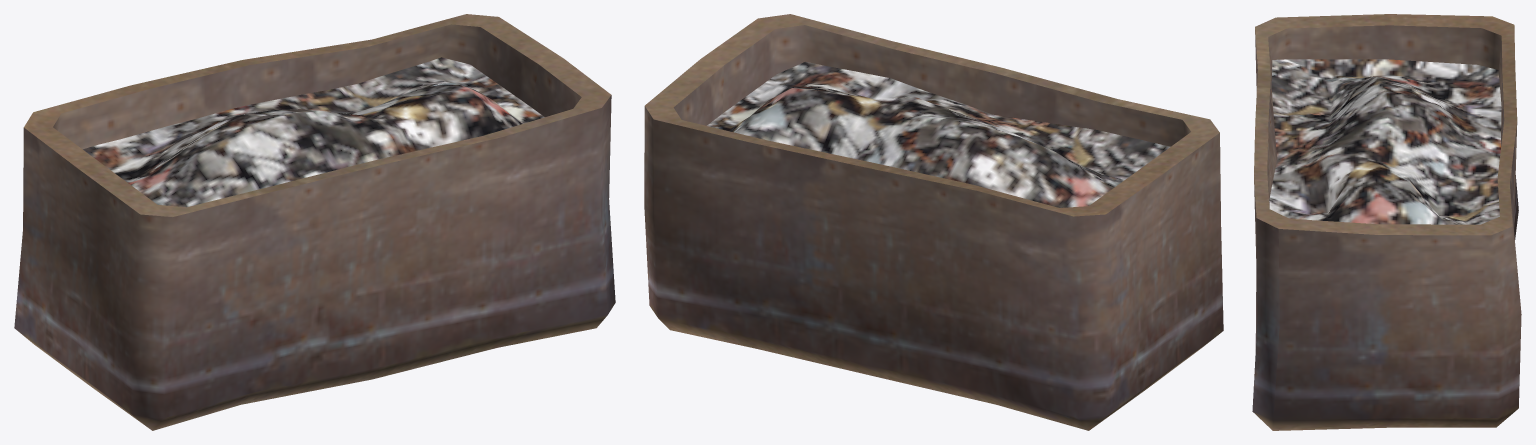
File: prop_trash_bin_cheia.glb
3 renders of one model, left to right at view 1: azimuth 30°, elevation 25°; view 2: azimuth 150°, elevation 25°; view 3: azimuth 270°, elevation 25°, orthographic. The views are drawn at different scales.
Parts seen in each view (by area): view 1: prop_trash_bin_cheia_mesh; view 2: prop_trash_bin_cheia_mesh; view 3: prop_trash_bin_cheia_mesh.
Boxes of the visible parts, <box> form: prop_trash_bin_cheia_mesh: <box>14,14,615,430</box>; prop_trash_bin_cheia_mesh: <box>644,14,1223,430</box>; prop_trash_bin_cheia_mesh: <box>1252,14,1521,430</box>.
Size of the model in its own units: 2.86 by 1.3 by 1.49.
Materials: 1 (1 with a texture image).
